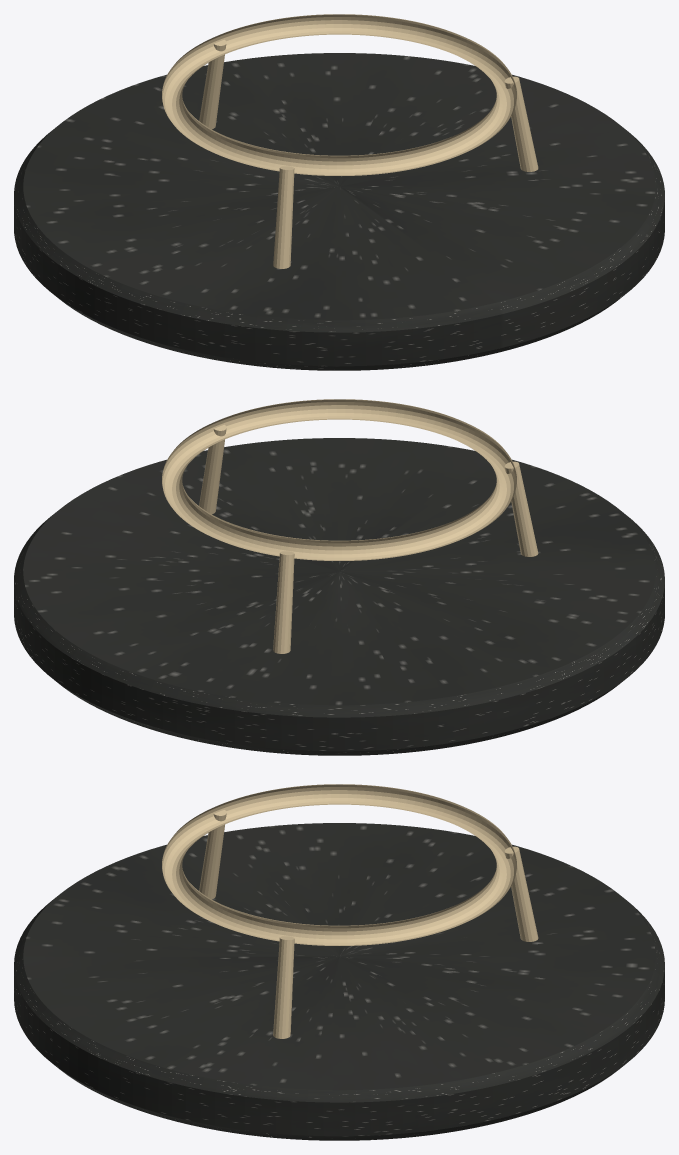
Rendered from cradle_brass.glb.
3 renders of one model, top to bottom at view 1: azimuth 30°, elevation 25°; view 2: azimuth 150°, elevation 25°; view 3: azimuth 270°, elevation 25°, orthographic.
Parts seen in each view (by area): view 1: part0, part1, part3, part2, part4; view 2: part0, part1, part4, part3, part2; view 3: part0, part1, part2, part4, part3.
Boxes of the visible parts, x1,y1,x2,y2 form: part0: [14, 53, 664, 370]; part1: [162, 14, 516, 175]; part3: [273, 166, 294, 268]; part2: [504, 76, 538, 171]; part4: [199, 39, 226, 129]; part0: [14, 438, 664, 755]; part1: [162, 399, 516, 560]; part4: [273, 551, 294, 653]; part3: [504, 461, 538, 556]; part2: [199, 424, 226, 514]; part0: [14, 823, 664, 1140]; part1: [162, 784, 516, 945]; part2: [273, 936, 294, 1038]; part4: [504, 846, 538, 941]; part3: [199, 810, 226, 899].
Bounding box in the file's own units: 0.14 × 0.0359 × 0.14.
2 materials, 1 textured.
